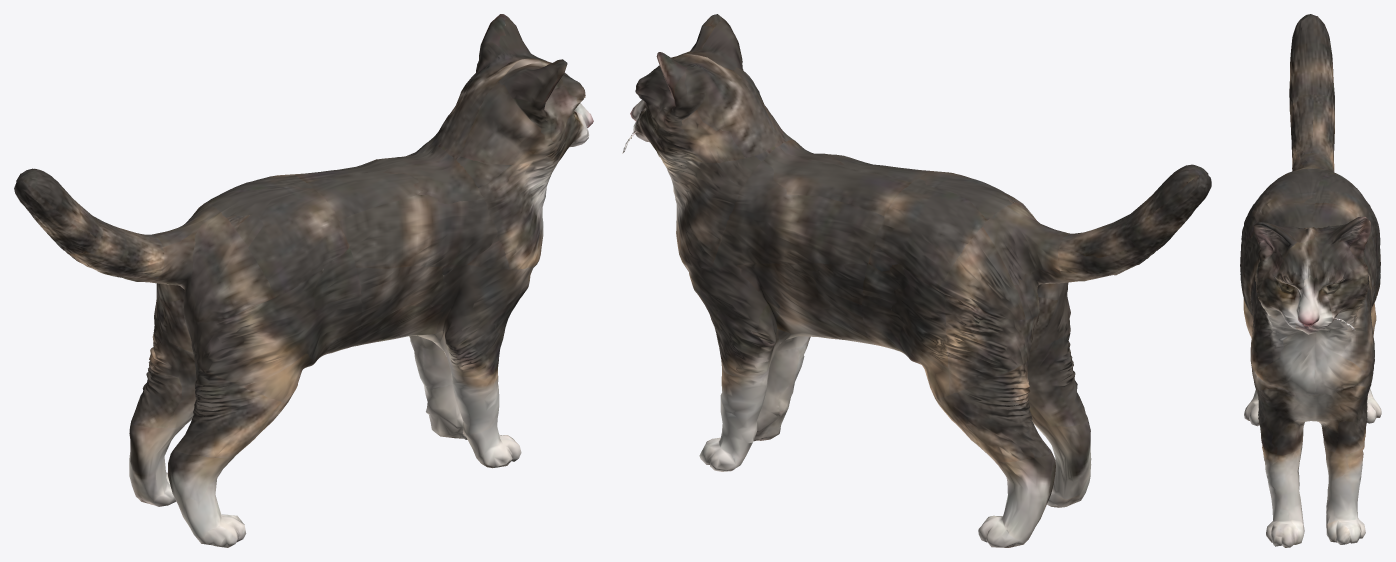
Rendered from SINSMILE.glb.
3 renders of one model, left to right at view 1: azimuth 30°, elevation 25°; view 2: azimuth 150°, elevation 25°; view 3: azimuth 270°, elevation 25°, orthographic. The views are drawn at different scales.
Visible parts, largest first — view 1: tripo_node_9ca7d3c8-9e6f-4476-9eaa-e5f80f3c2b74; view 2: tripo_node_9ca7d3c8-9e6f-4476-9eaa-e5f80f3c2b74; view 3: tripo_node_9ca7d3c8-9e6f-4476-9eaa-e5f80f3c2b74.
Boxes of the visible parts, x1,y1,x2,y2 form: tripo_node_9ca7d3c8-9e6f-4476-9eaa-e5f80f3c2b74: (14, 14, 593, 547); tripo_node_9ca7d3c8-9e6f-4476-9eaa-e5f80f3c2b74: (622, 14, 1211, 547); tripo_node_9ca7d3c8-9e6f-4476-9eaa-e5f80f3c2b74: (1240, 14, 1381, 547).
Size of the model in its own units: 1.49 by 0.9987 by 0.3698.
Materials: 1 (1 with a texture image).
